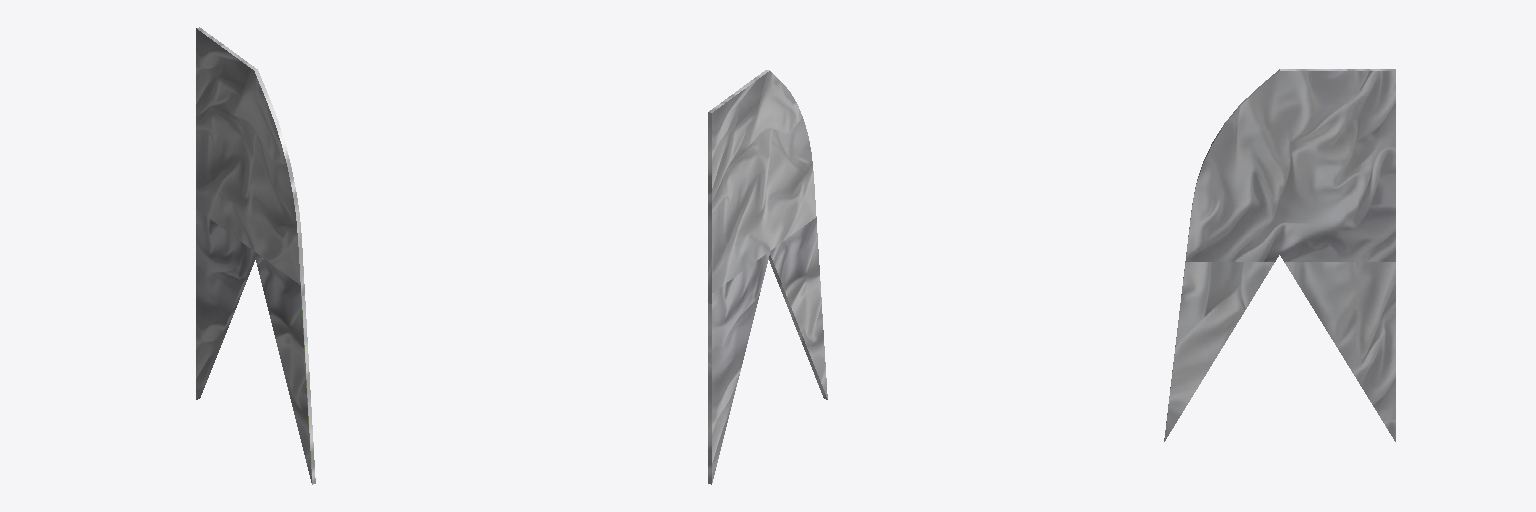
The picture shows the model from 3 angles: view 1: azimuth 30°, elevation 25°; view 2: azimuth 150°, elevation 25°; view 3: azimuth 270°, elevation 25°; orthographic projection.
Parts seen in each view (by area): view 1: pCube1; view 2: pCube1; view 3: pCube1.
Part boxes in pixels (left/top/right/bottom): pCube1: left=196, top=27, right=315, bottom=484; pCube1: left=708, top=70, right=827, bottom=484; pCube1: left=1164, top=69, right=1395, bottom=441.
Bounding box in the file's own units: 0.0182 × 1.68 × 0.9478.
1 materials, 1 textured.